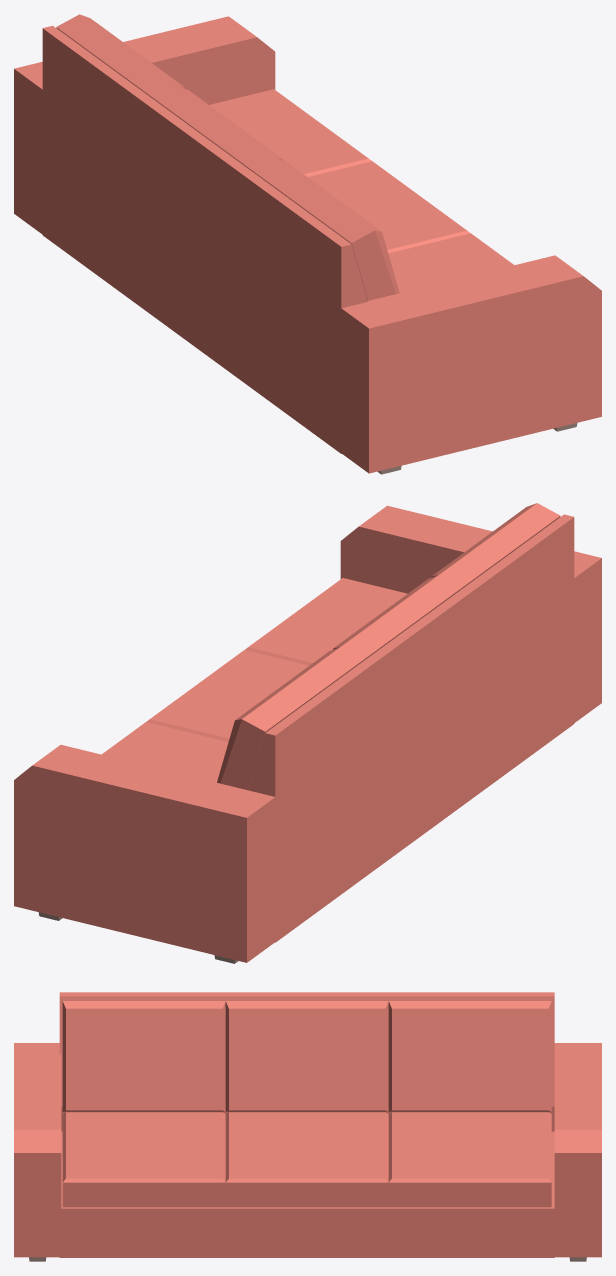
File: Sofa_01.gltf
The picture shows the model from 3 angles, top to bottom: view 1: azimuth 30°, elevation 25°; view 2: azimuth 150°, elevation 25°; view 3: azimuth 270°, elevation 25°; orthographic projection. The views are drawn at different scales.
Parts seen in each view (by area): view 1: couch_Cube.029; view 2: couch_Cube.029; view 3: couch_Cube.029.
Part boxes in pixels (<box>): couch_Cube.029: <box>14,14,601,474</box>; couch_Cube.029: <box>14,503,601,963</box>; couch_Cube.029: <box>14,992,601,1261</box>.
Bounding box in the file's own units: 10.52 × 9.76 × 27.79.
